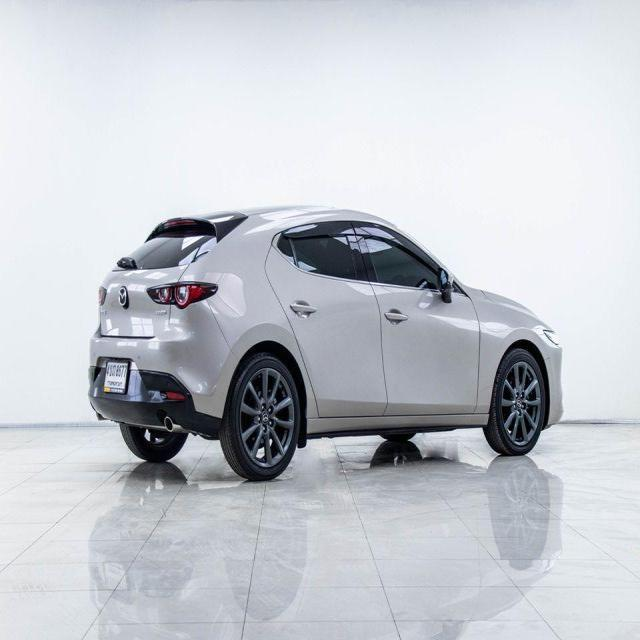Hatchback: (87, 206, 565, 484)
